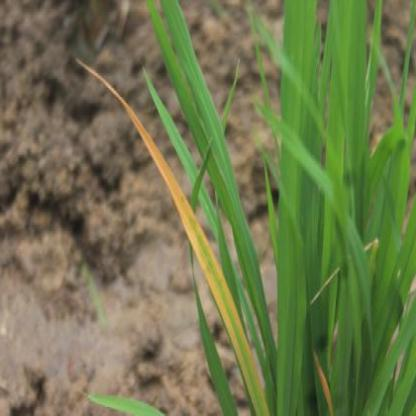Tungro: (127, 99, 270, 413)
